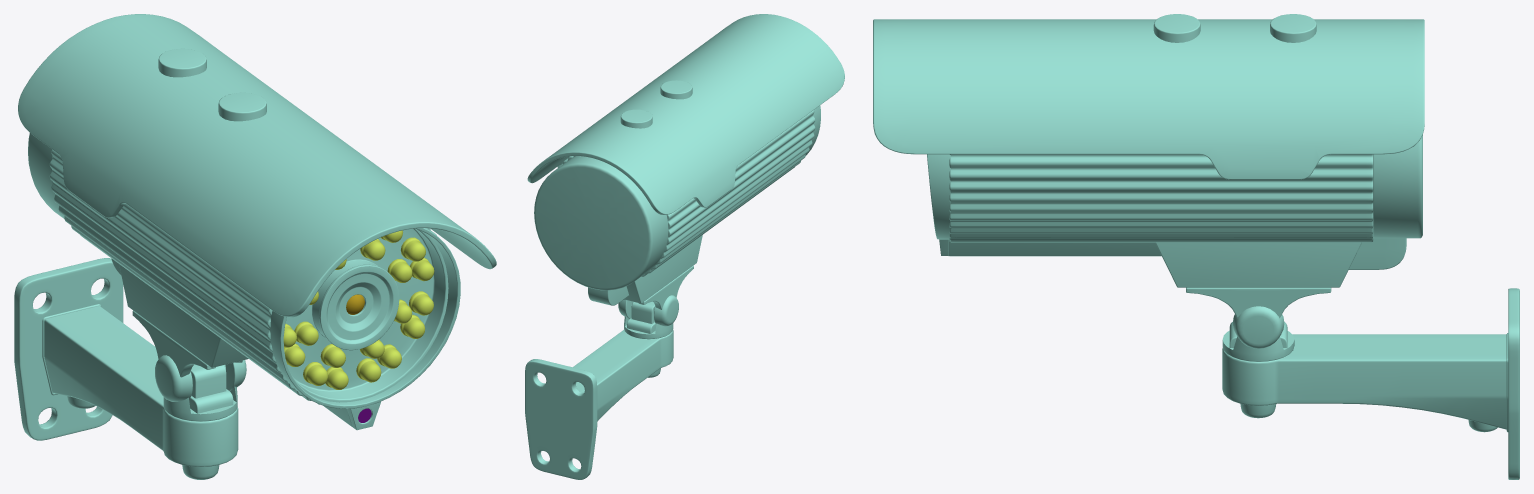
File: camera.obj
The picture shows the model from 3 angles, left to right: view 1: azimuth 30°, elevation 25°; view 2: azimuth 150°, elevation 25°; view 3: azimuth 270°, elevation 25°; orthographic projection. The views are drawn at different scales.
Visible parts, largest first — view 1: archmodels95_044_001, archmodels95_044_003; view 2: archmodels95_044_001; view 3: archmodels95_044_001.
Boxes of the visible parts, x1,y1,x2,y2 form: archmodels95_044_001: (14, 14, 496, 479); archmodels95_044_003: (283, 230, 434, 389); archmodels95_044_001: (525, 14, 844, 479); archmodels95_044_001: (873, 14, 1519, 479).
Bounding box in the file's own units: 8.52 × 16.8 × 22.28.
